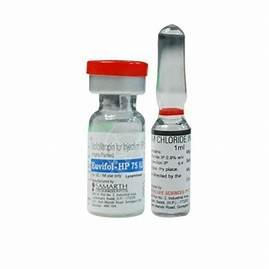Syringe: (68, 52, 149, 219), (148, 24, 193, 220)
